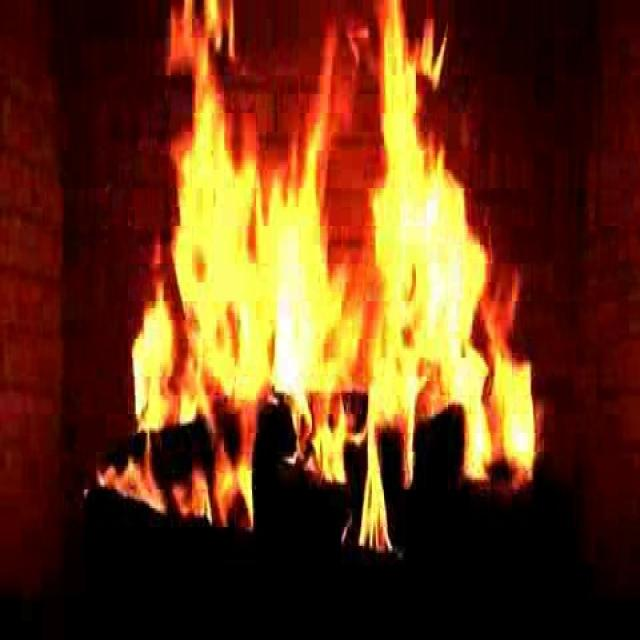fire: (124, 14, 540, 530)
